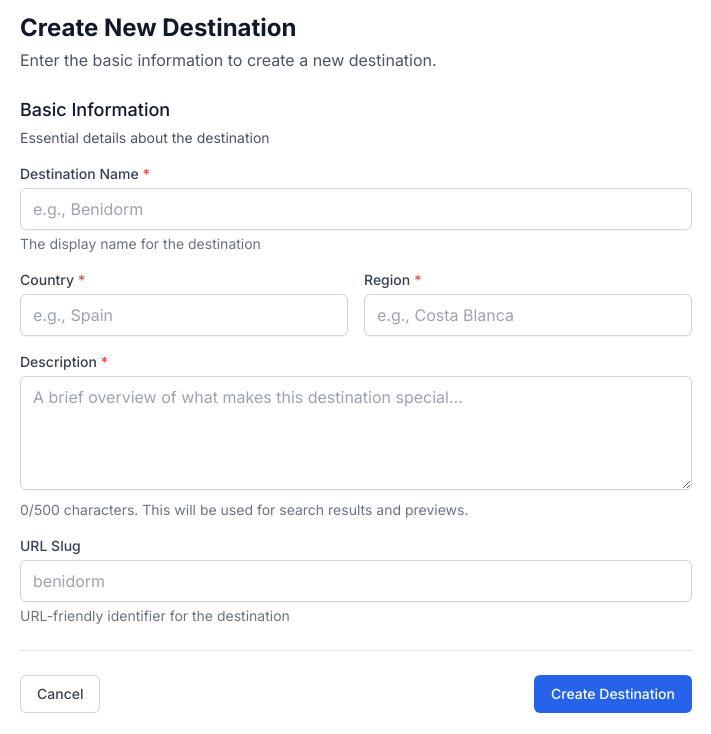
Test case: DestinationForm › Form Validation › validates slug format
Type "Invalid Slug!" into the field labelled "URL Slug" at (356, 581), box [20,560,692,602]
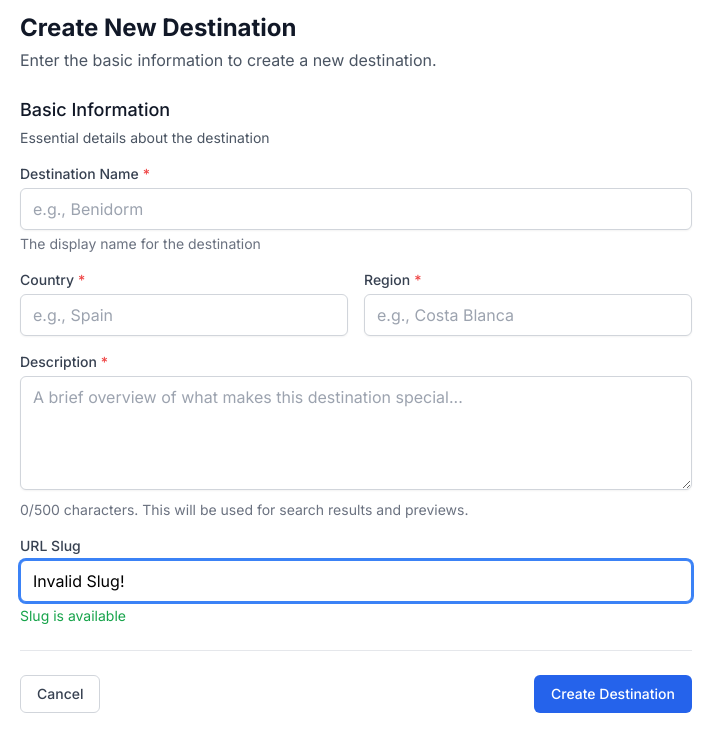
Press Tab
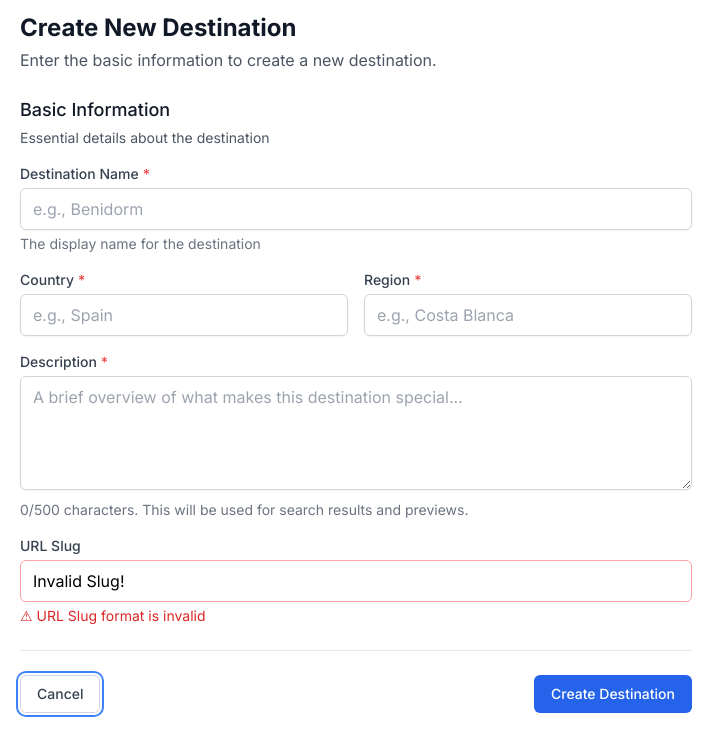
Now the text "⚠ URL Slug format is invalid" is shown, box [20,607,206,624]
